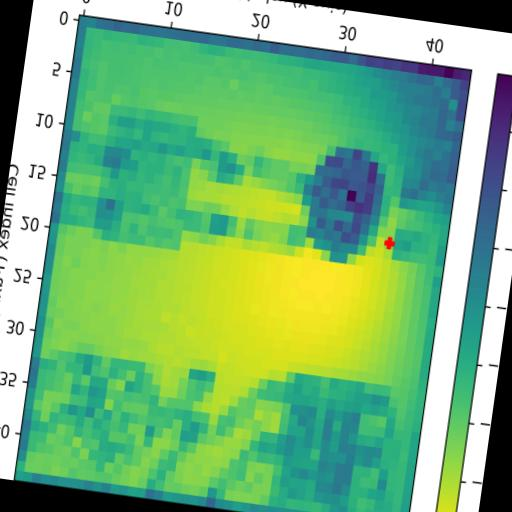Concrete: (269, 371, 392, 512)
Glass: (42, 348, 215, 498)
Metal: (284, 139, 406, 270)
Wood: (92, 105, 199, 251)
